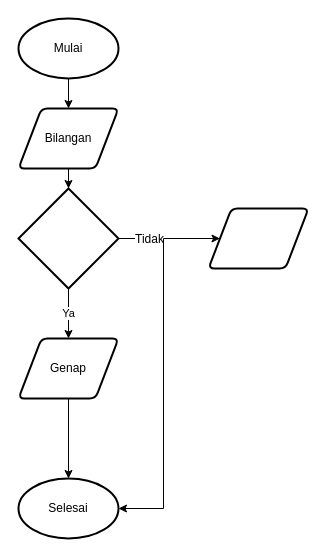
The diagram is 326 pixels wide and 556 high, and some of its shapes have lost their labels. The box of each missing label's shape, as (x1, y1, x2, y2) in pixels:
Bil % 2 == 0: (17, 187, 119, 289)
Ganjil: (207, 207, 309, 269)
